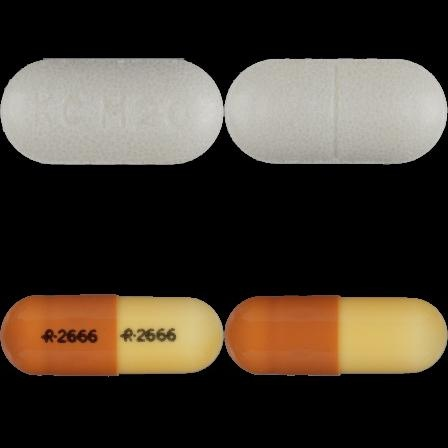67544-349: (0, 0, 224, 224)
